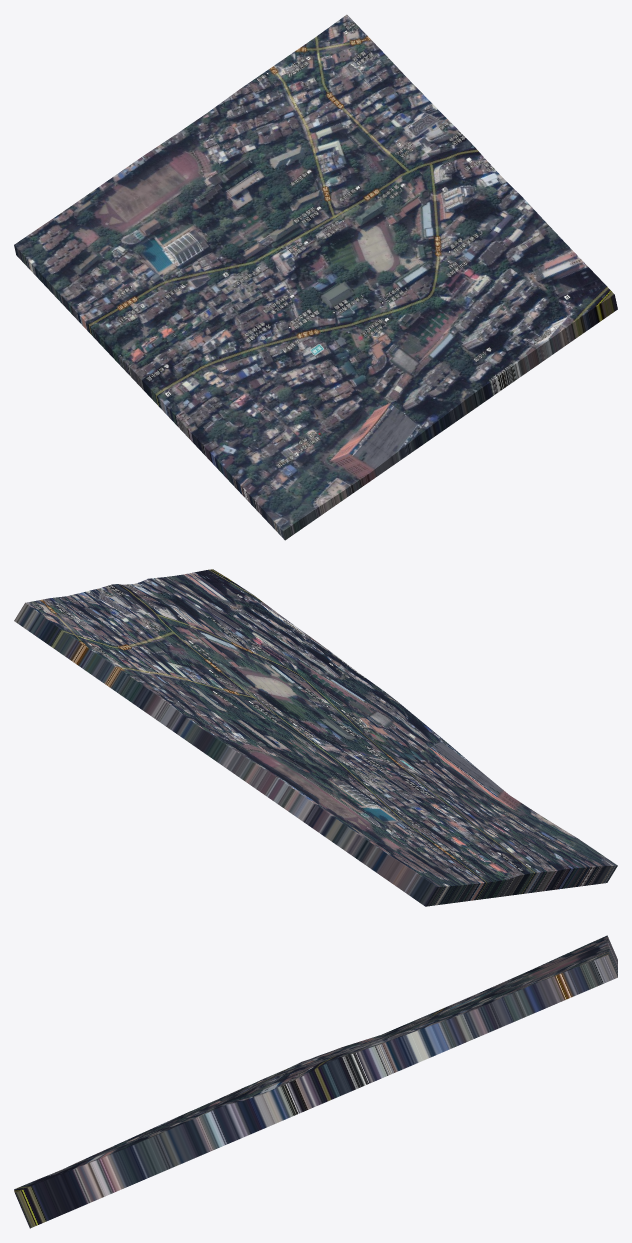
3 renders of one model, top to bottom at view 1: azimuth 30°, elevation 25°; view 2: azimuth 150°, elevation 25°; view 3: azimuth 270°, elevation 25°, orthographic. The views are drawn at different scales.
Parts seen in each view (by area): view 1: 0_10_17; view 2: 0_10_17; view 3: 0_10_17.
Part boxes in pixels (x1,y1,x2,y2): 0_10_17: [14, 14, 617, 540]; 0_10_17: [14, 569, 617, 906]; 0_10_17: [14, 935, 617, 1228].
Bounding box in the file's own units: 601 × 448 × 557.
1 material, 1 textured.
